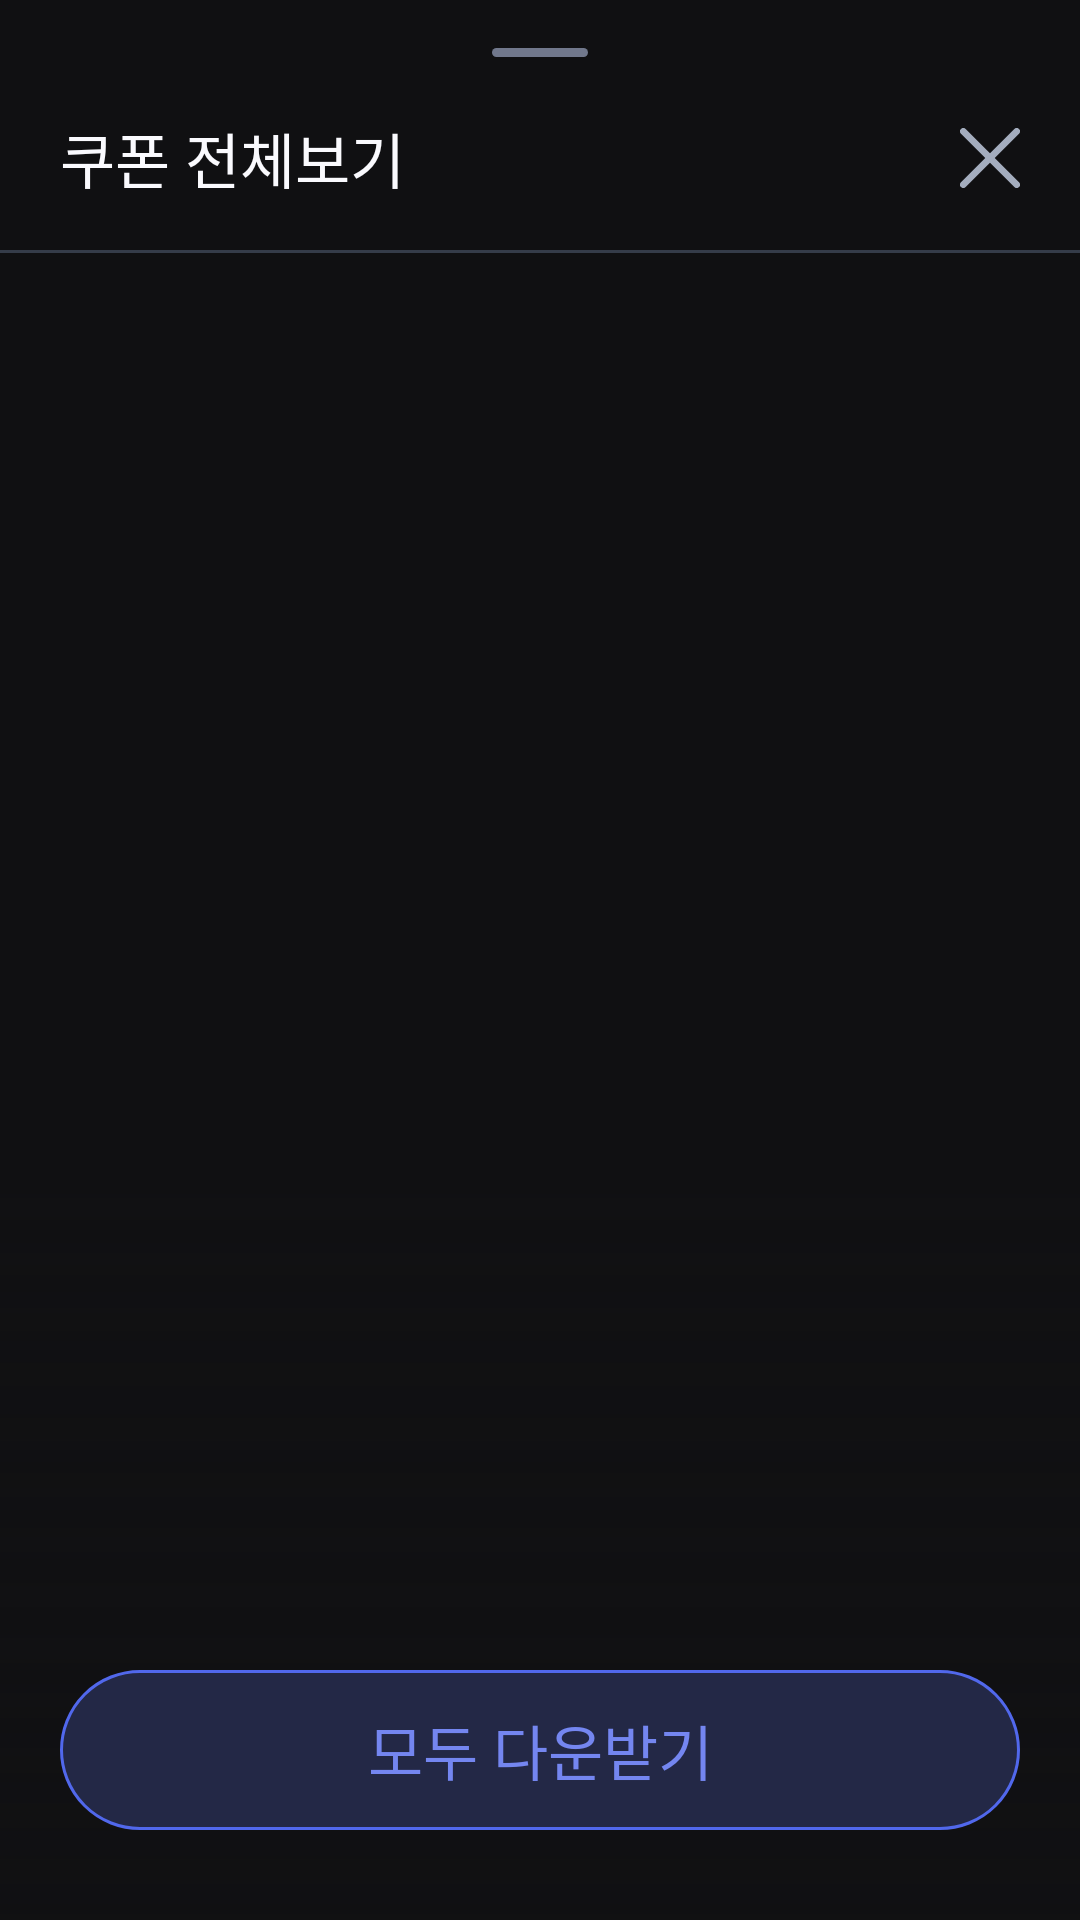

Where icons sit on this 1080 x 1920 app screen, as (x1, y1, x2, y2):
close: (960, 128, 1020, 188)
